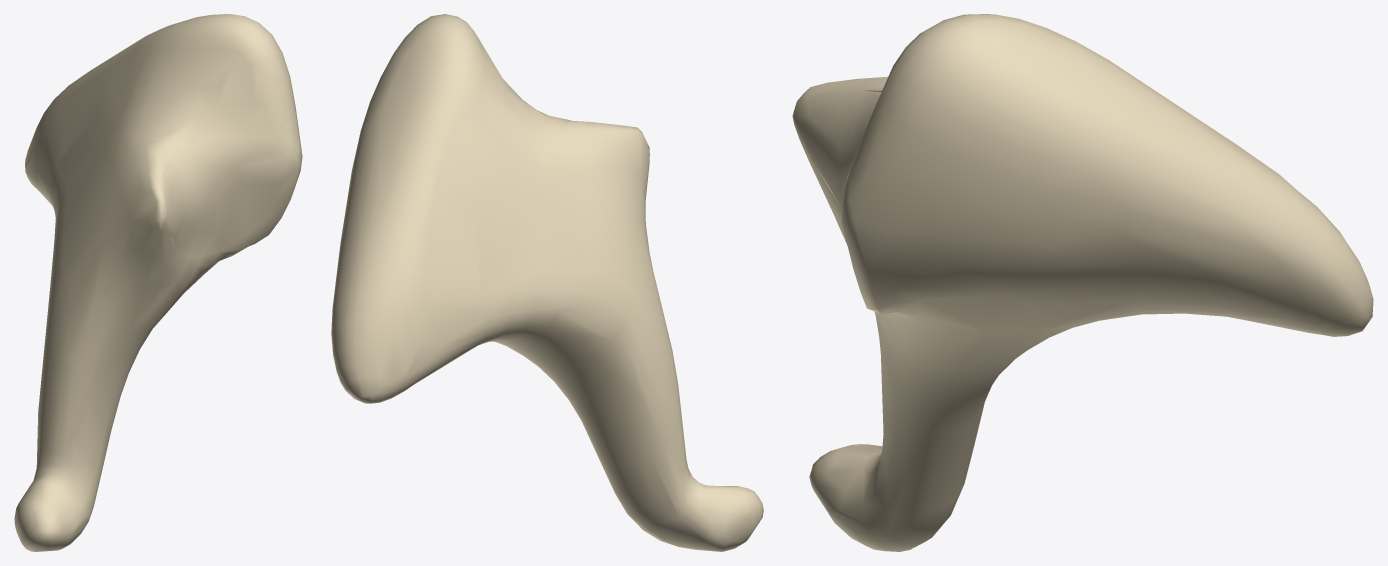
File: esqueleto-incus-l.glb
The picture shows the model from 3 angles, left to right: view 1: azimuth 30°, elevation 25°; view 2: azimuth 150°, elevation 25°; view 3: azimuth 270°, elevation 25°; orthographic projection. The views are drawn at different scales.
Parts seen in each view (by area): view 1: Incus.l; view 2: Incus.l; view 3: Incus.l.
Part boxes in pixels (x1=…): Incus.l: x1=14, y1=14, x2=302, y2=551; Incus.l: x1=331, y1=14, x2=763, y2=551; Incus.l: x1=792, y1=14, x2=1373, y2=551.
Bounding box in the file's own units: 0.00422 × 0.00623 × 0.00489.
